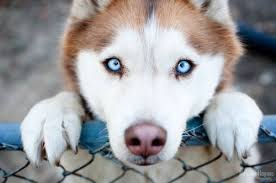husky: (37, 5, 261, 170)
